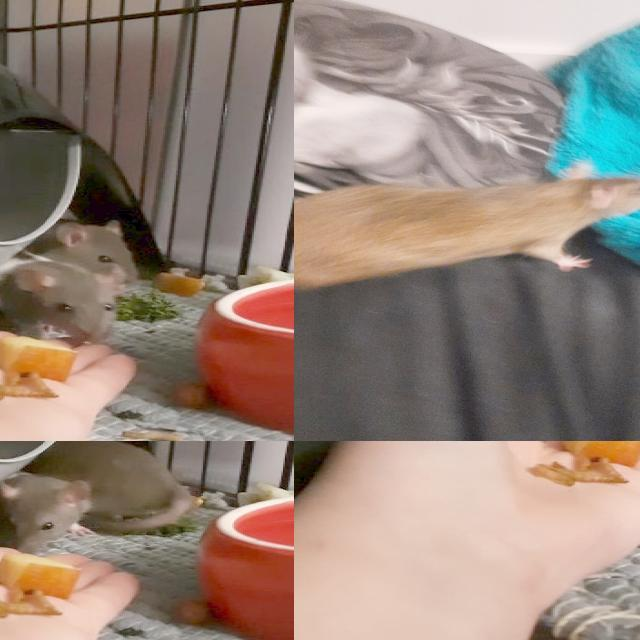rat: (294, 164, 640, 287), (19, 441, 184, 523), (0, 256, 123, 346), (0, 469, 100, 553)
